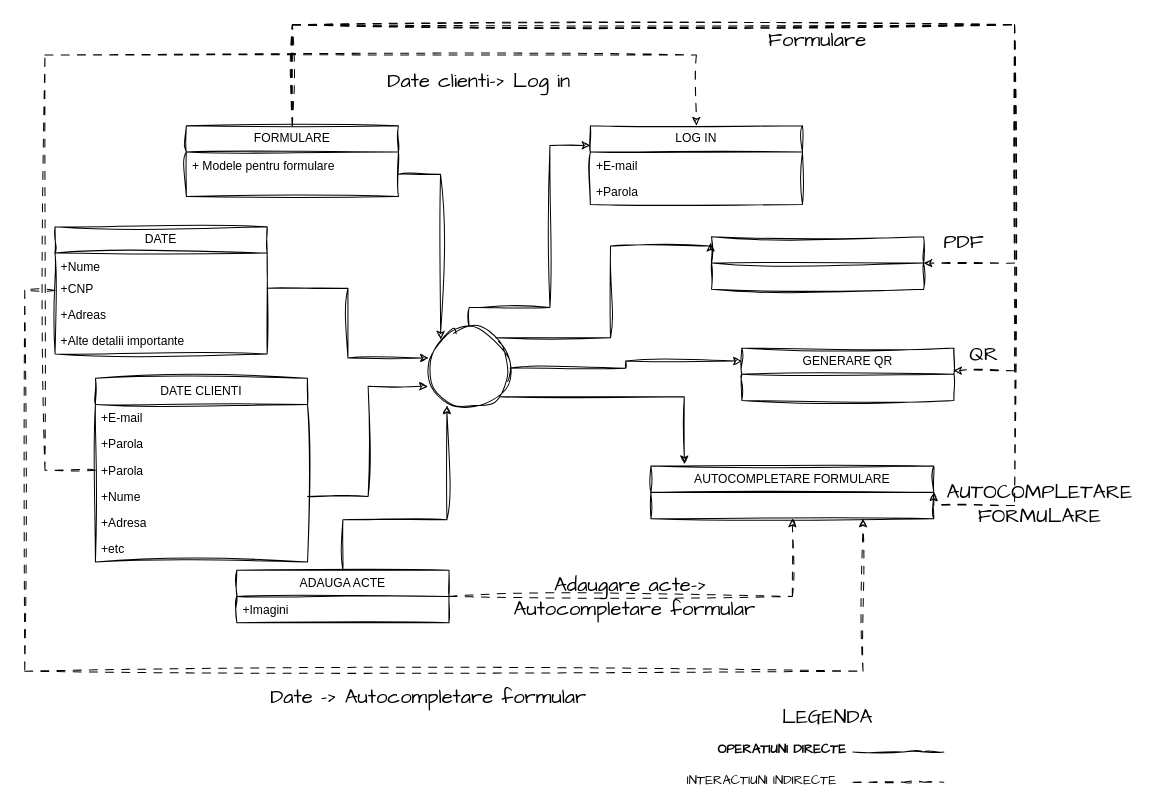
Image size: 1150x810. Some labels were removed from this diagram. Each missing label, with the centre of its shape:
DATA BASE: the point at 469,368
GENERARE PDF: the point at 817,262
